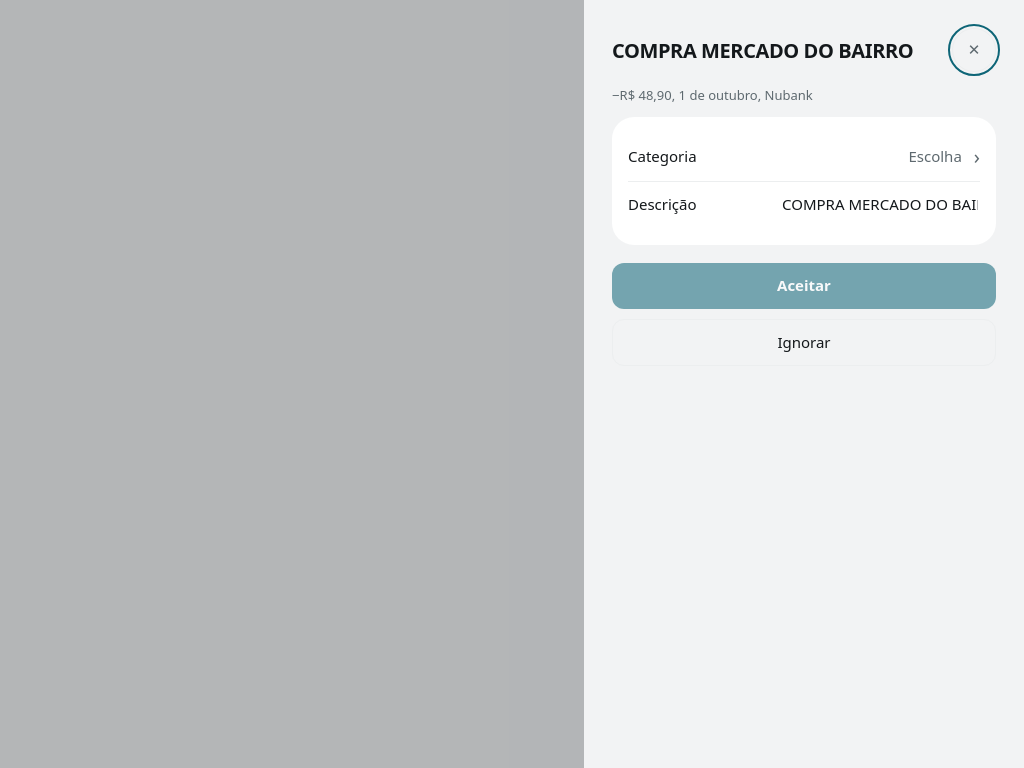
Scenario: InboxSheet › a line someone else already handled shows the message of the server and stays open
Click the button "Ignorar".
click(804, 342)  # box [612, 319, 996, 366]
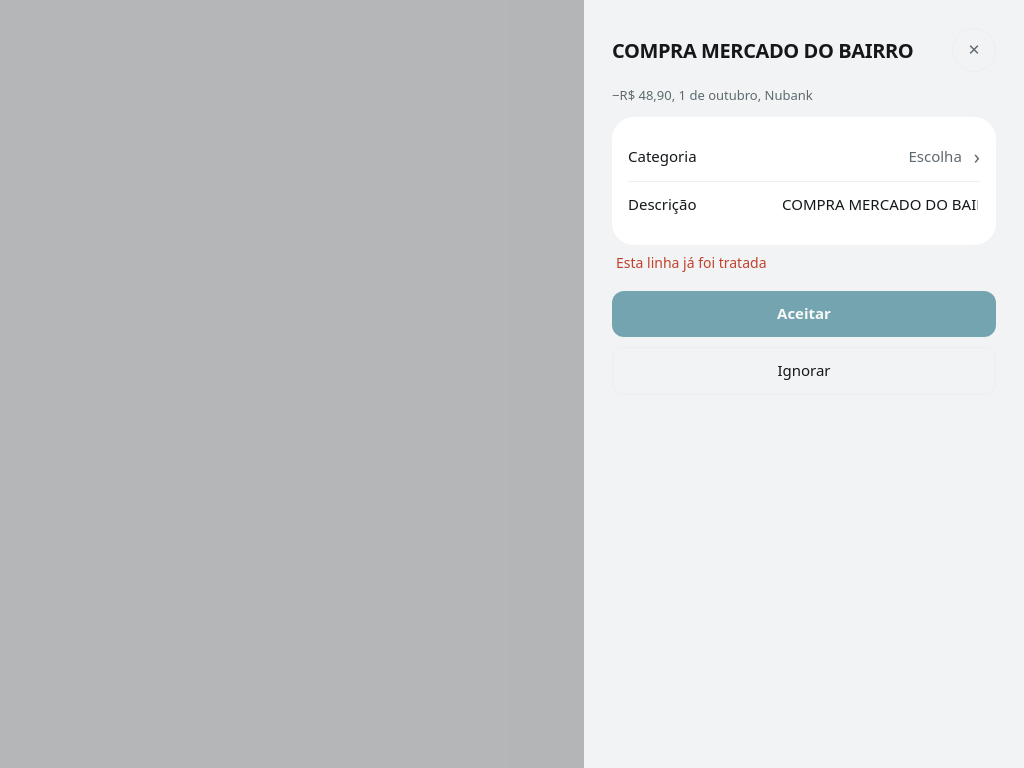
Result: the text "Esta linha já foi tratada" is shown at [616, 253, 766, 272]
